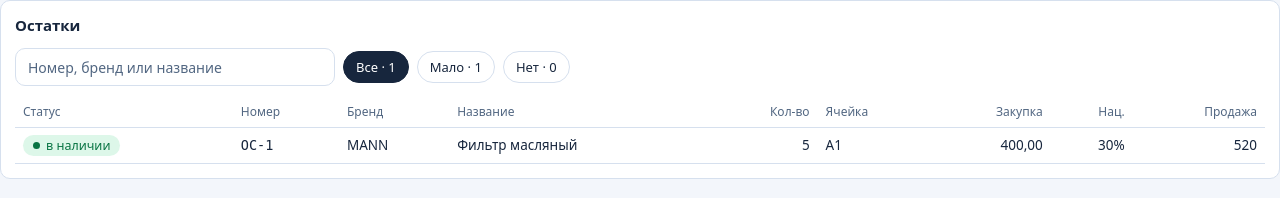
it: shows nothing-found text when searching
The image size is (1280, 198).
Expected: the text "OC-1" is shown, [233,127,339,163]
Type "zzz" into the search field. click: (175, 67)
box: [15,48,335,86]
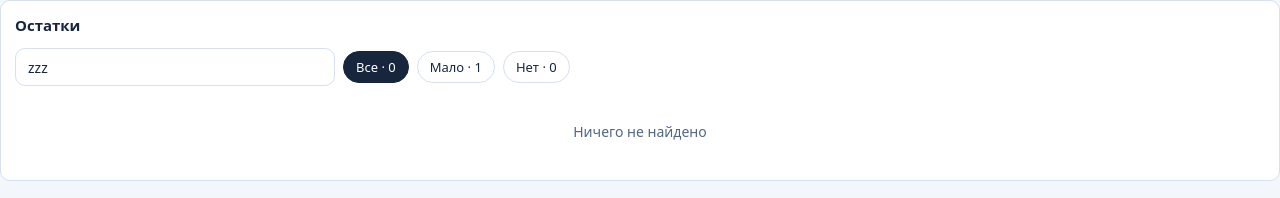
Now the text "Ничего не найдено" is shown, box [573,122,707,141]
